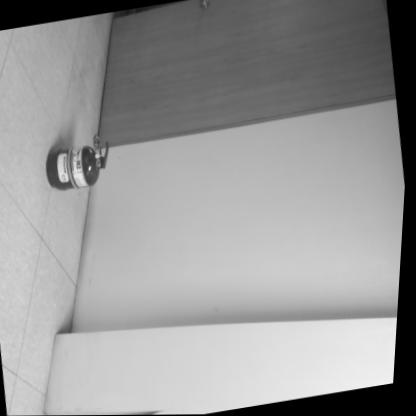FE: (41, 133, 117, 196)
